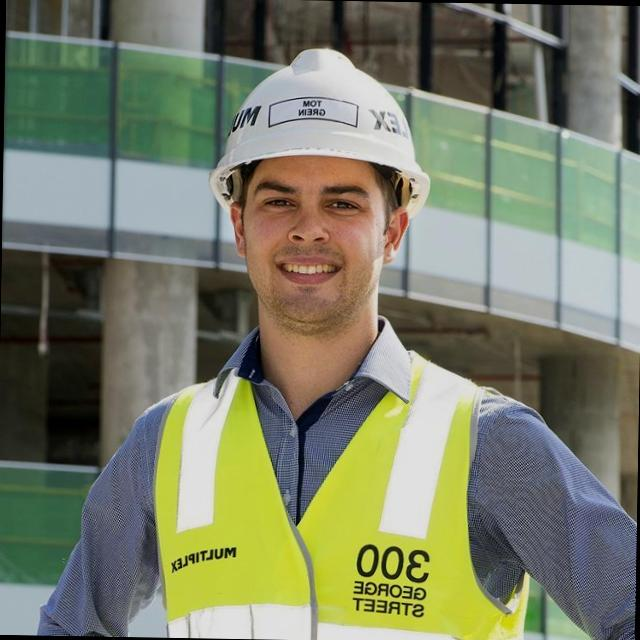helmet: (212, 42, 434, 182)
no-goggles: (235, 172, 398, 234)
vest: (172, 331, 469, 638)
